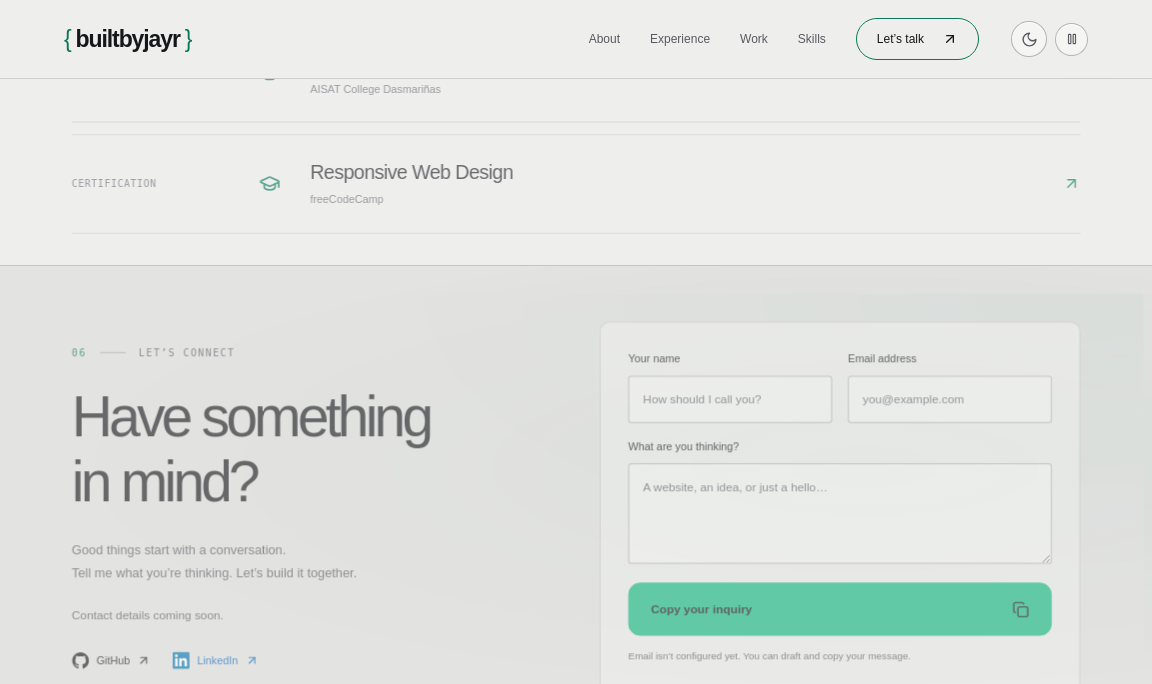
Test: portfolio interactions › keeps a copyable inquiry if email is unconfigured and clipboard access fails
(page scrolled)
In the field labelled "Your name": [730, 399] box [628,375,832,422], type "Test visitor"
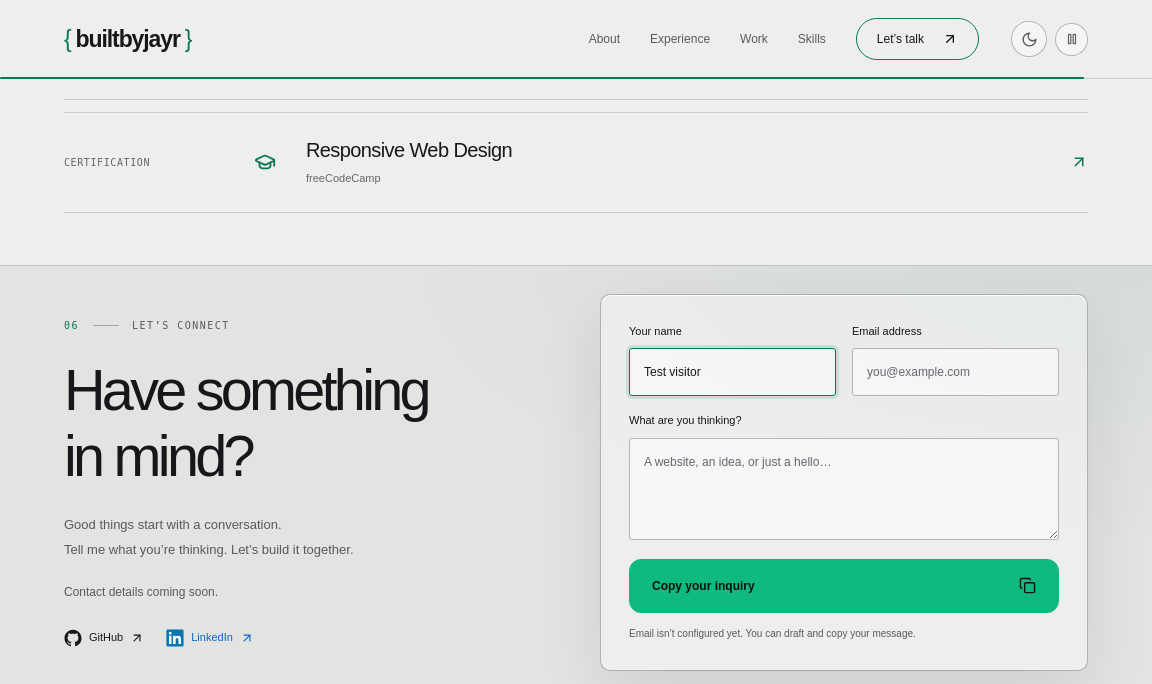
In the field labelled "Email address": [956, 372] box [852,348,1059,396], type "visitor@example.com"
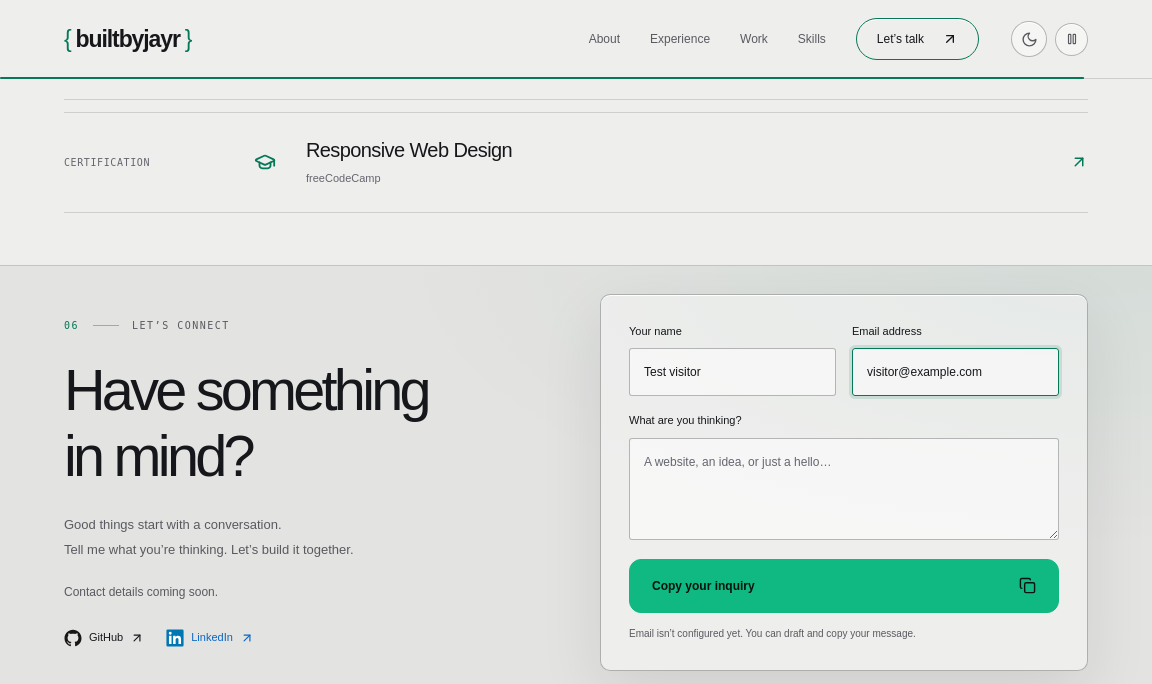
In the text box labelled "What are you thinking?": [844, 489] box [629,438,1059,540], type "A new website."
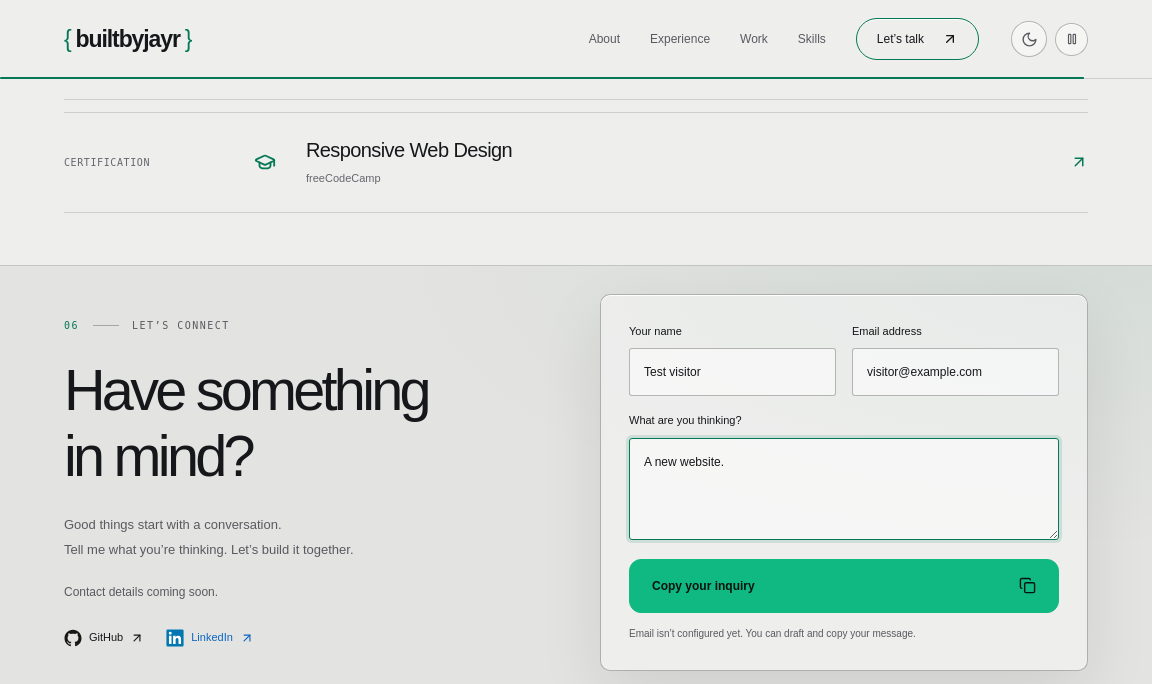
Click the button "Copy your inquiry": [703, 586] box [629,559,1059,613]
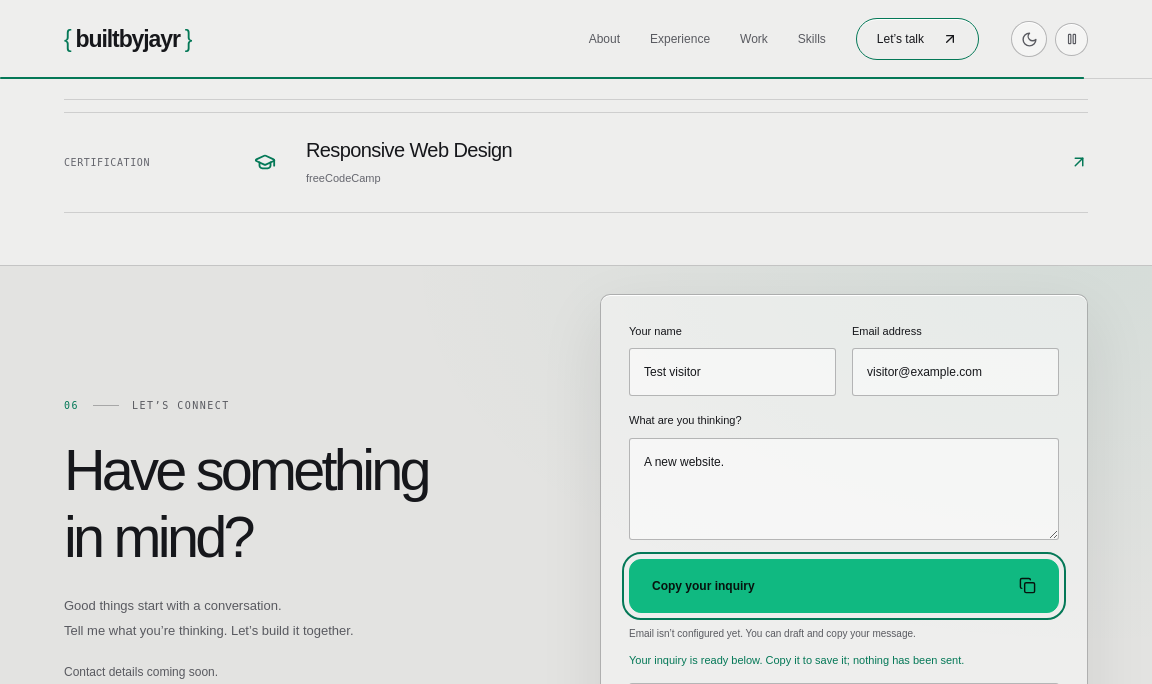
expect the message named "Contact form status" shows "nothing has been sent": met, box [629,654,964,666]
